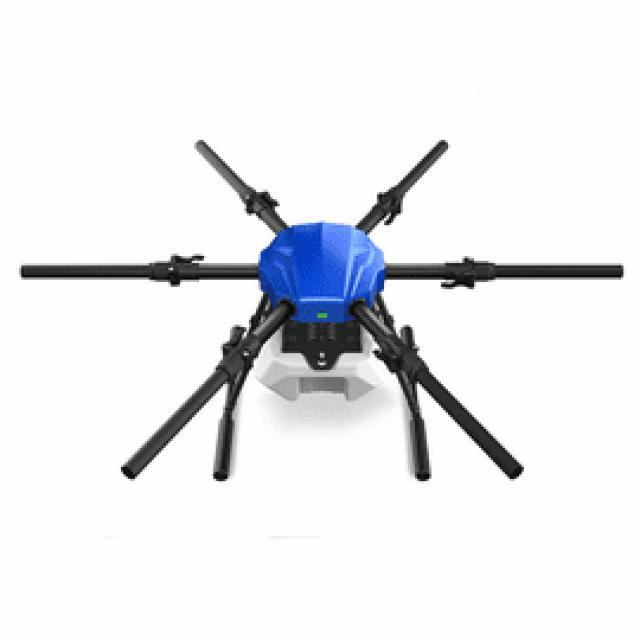drone: (29, 129, 632, 527)
